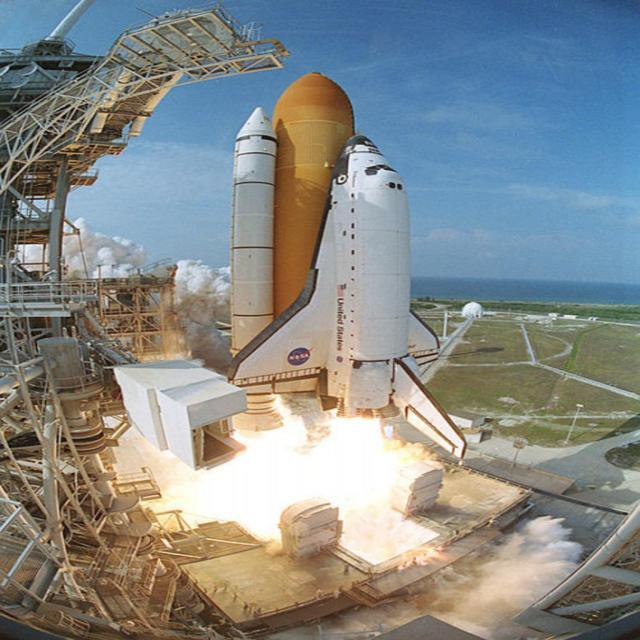missile: (186, 69, 468, 482)
